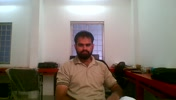hand: (45, 57, 94, 99)
